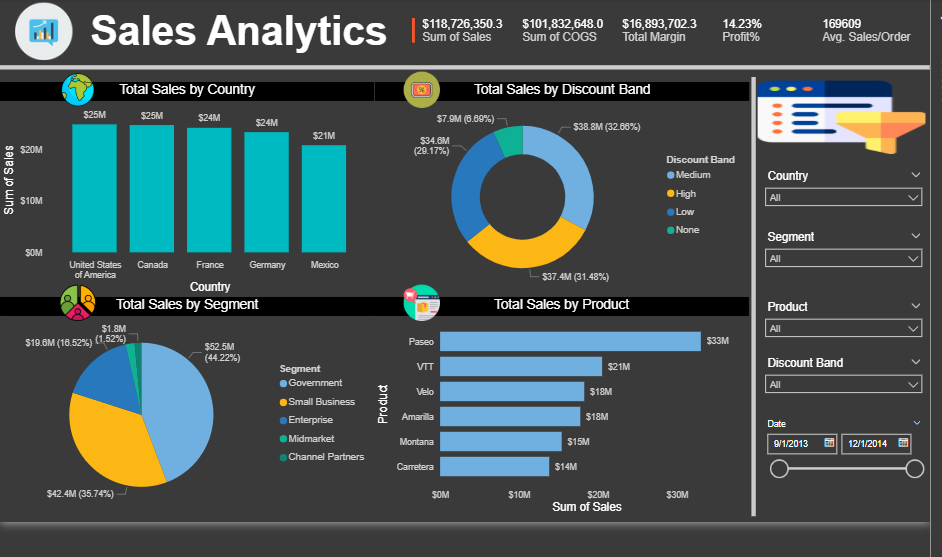

What the dashboard file says about the page in this screenshot:
{"tool":"powerbi","page":{"name":"Sales Analytics","canvas":[1280,720],"ordinal":0},"visuals":[{"type":"shape","box":[0,88.7,1279.7,12],"z":0},{"type":"shape","box":[1031.2,107.9,12.6,604.5],"z":1000},{"type":"columnChart","title":"Total Sales by Country","fields":{"Category":["financials.Country"],"Y":["Sum(financials. Sales)"]},"box":[0,114.7,515.1,295.5],"z":2000},{"type":"donutChart","title":"Total  Sales by Discount Band","fields":{"Category":["financials.Discount Band"],"Y":["Sum(financials. Sales)"]},"box":[516.1,114.7,515.1,295.5],"z":3000},{"type":"pieChart","title":"Total  Sales by Segment","fields":{"Category":["financials.Segment"],"Y":["Sum(financials. Sales)"]},"box":[0,410.1,515.1,303.2],"z":4000},{"type":"barChart","title":"Total Sales by Product","fields":{"Category":["financials.Product"],"Y":["Sum(financials. Sales)"]},"box":[515.1,410.1,516.1,302.3],"z":5000},{"type":"multiRowCard","fields":{"Values":["Sum(financials. Sales)","Sum(financials.COGS)","financials.Total Margin","financials.Profit%","financials.Avg. Sales/Order"]},"box":[567.5,26.6,702.3,54.1],"z":6000},{"type":"textbox","box":[107.3,6.2,443.3,82.5],"z":7000},{"type":"image","box":[13.3,0,93.1,88.7],"z":8000},{"type":"slicer","fields":{"Values":["financials.Country"]},"box":[1043.8,229.4,236.2,84.6],"z":10000},{"type":"slicer","fields":{"Values":["financials.Segment"]},"box":[1043.8,313.9,236.2,87.5],"z":11000},{"type":"slicer","fields":{"Values":["financials.Product"]},"box":[1043.8,410.1,236.2,77.8],"z":12000},{"type":"slicer","fields":{"Values":["financials.Discount Band"]},"box":[1043.8,487.9,236.2,84.6],"z":13000},{"type":"slicer","fields":{"Values":["financials.Date"]},"box":[1043.8,572.5,236.2,108.9],"z":14000},{"type":"image","box":[1038.3,107.3,241.2,110.8],"z":15000},{"type":"image","box":[551.1,388.8,60.3,60.3],"z":18000},{"type":"image","box":[76.8,388.8,60.3,60.3],"z":18125},{"type":"image","box":[551.1,95.2,60.3,60.3],"z":18250},{"type":"image","box":[76.8,95.2,60,60],"z":18500}]}

Visuals, with their boxes on the page's 1280x720 design canvas (x1, y1, x2, y2). These are canvas units, not pixel positions in the 942x557 screenshot, which may show the page scaled, cropped or inside an application window:
shape: (0, 89, 1280, 101)
shape: (1031, 108, 1044, 712)
"Total Sales by Country" columnChart: (0, 115, 515, 410)
"Total  Sales by Discount Band" donutChart: (516, 115, 1031, 410)
"Total  Sales by Segment" pieChart: (0, 410, 515, 713)
"Total Sales by Product" barChart: (515, 410, 1031, 712)
multiRowCard - Sum(financials. Sales) x Sum(financials.COGS): (568, 27, 1270, 81)
textbox: (107, 6, 551, 89)
image: (13, 0, 106, 89)
slicer - financials.Country: (1044, 229, 1280, 314)
slicer - financials.Segment: (1044, 314, 1280, 401)
slicer - financials.Product: (1044, 410, 1280, 488)
slicer - financials.Discount Band: (1044, 488, 1280, 572)
slicer - financials.Date: (1044, 572, 1280, 681)
image: (1038, 107, 1280, 218)
image: (551, 389, 611, 449)
image: (77, 389, 137, 449)
image: (551, 95, 611, 156)
image: (77, 95, 137, 155)
